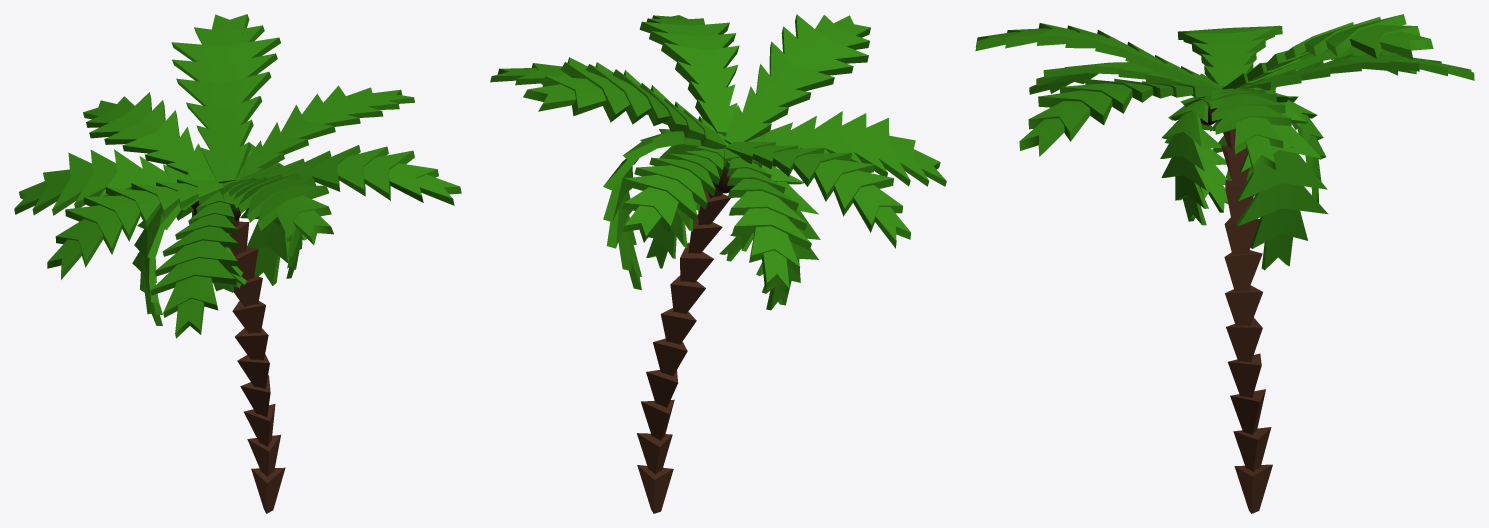
The model's file is PalmTree.fbx.
The picture shows the model from 3 angles, left to right: view 1: azimuth 30°, elevation 25°; view 2: azimuth 150°, elevation 25°; view 3: azimuth 270°, elevation 25°; orthographic projection. The views are drawn at different scales.
Visible parts, largest first — view 1: pCube16, pCube17, pCube12, pCylinder13, pCube21, pCube13, pCube18, pCube14, pCube11, pCube23, pCube22, pCube15; view 2: pCube11, pCylinder13, pCube12, pCube18, pCube16, pCube21, pCube17, pCube13, pCube22, pCube23, pCube14, pCube20 (+2 smaller); view 3: pCylinder13, pCube22, pCube21, pCube16, pCube14, pCube11, pCube15, pCube12, pCube13, pCube17, pCube19, pCube20 (+2 smaller).
Part boxes in pixels (<box>): pCube16: <box>171,14,280,183</box>; pCube17: <box>150,191,239,338</box>; pCube12: <box>47,179,223,279</box>; pCylinder13: <box>229,247,285,513</box>; pCube21: <box>239,145,461,205</box>; pCube13: <box>83,92,216,180</box>; pCube18: <box>14,149,222,215</box>; pCube14: <box>222,85,414,186</box>; pCube11: <box>219,173,333,244</box>; pCube23: <box>132,198,198,325</box>; pCube22: <box>240,143,306,285</box>; pCube15: <box>286,228,302,278</box>; pCube11: <box>724,14,870,144</box>; pCylinder13: <box>637,214,722,513</box>; pCube12: <box>725,142,910,248</box>; pCube18: <box>723,148,811,295</box>; pCube16: <box>523,62,726,149</box>; pCube21: <box>639,15,739,136</box>; pCube17: <box>747,111,946,186</box>; pCube13: <box>622,146,730,242</box>; pCube22: <box>603,129,702,289</box>; pCube23: <box>756,164,820,310</box>; pCube14: <box>490,57,729,145</box>; pCube20: <box>646,201,700,268</box>; pCylinder13: <box>1224,180,1272,513</box>; pCube22: <box>1236,82,1327,270</box>; pCube21: <box>1019,78,1218,156</box>; pCube16: <box>1222,14,1433,89</box>; pCube14: <box>1210,87,1291,172</box>; pCube11: <box>975,23,1222,89</box>; pCube15: <box>1160,96,1211,225</box>; pCube12: <box>1177,25,1282,87</box>; pCube13: <box>1252,52,1474,90</box>; pCube17: <box>1029,62,1211,94</box>; pCube19: <box>1164,97,1228,212</box>; pCube20: <box>1273,91,1326,202</box>.
Size of the model in its own units: 30.91 by 34.76 by 32.02.
